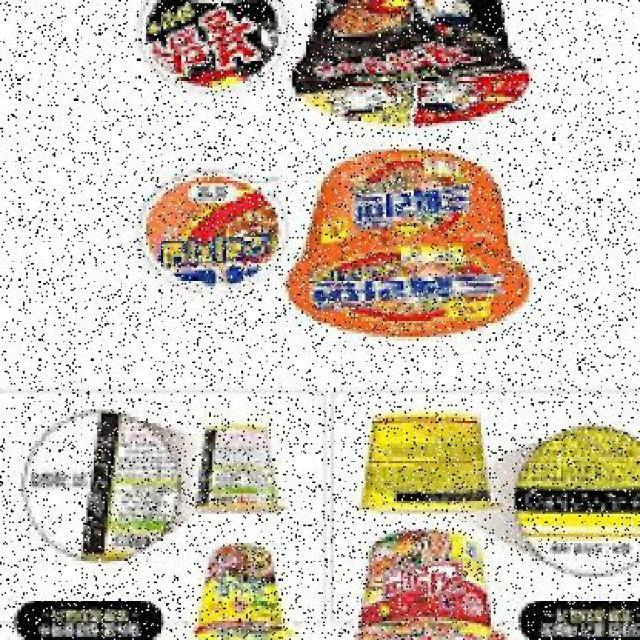Miscellaneous: (305, 144, 530, 342), (286, 0, 523, 131), (346, 413, 500, 522), (348, 534, 497, 640), (182, 413, 302, 530), (202, 543, 290, 640)
